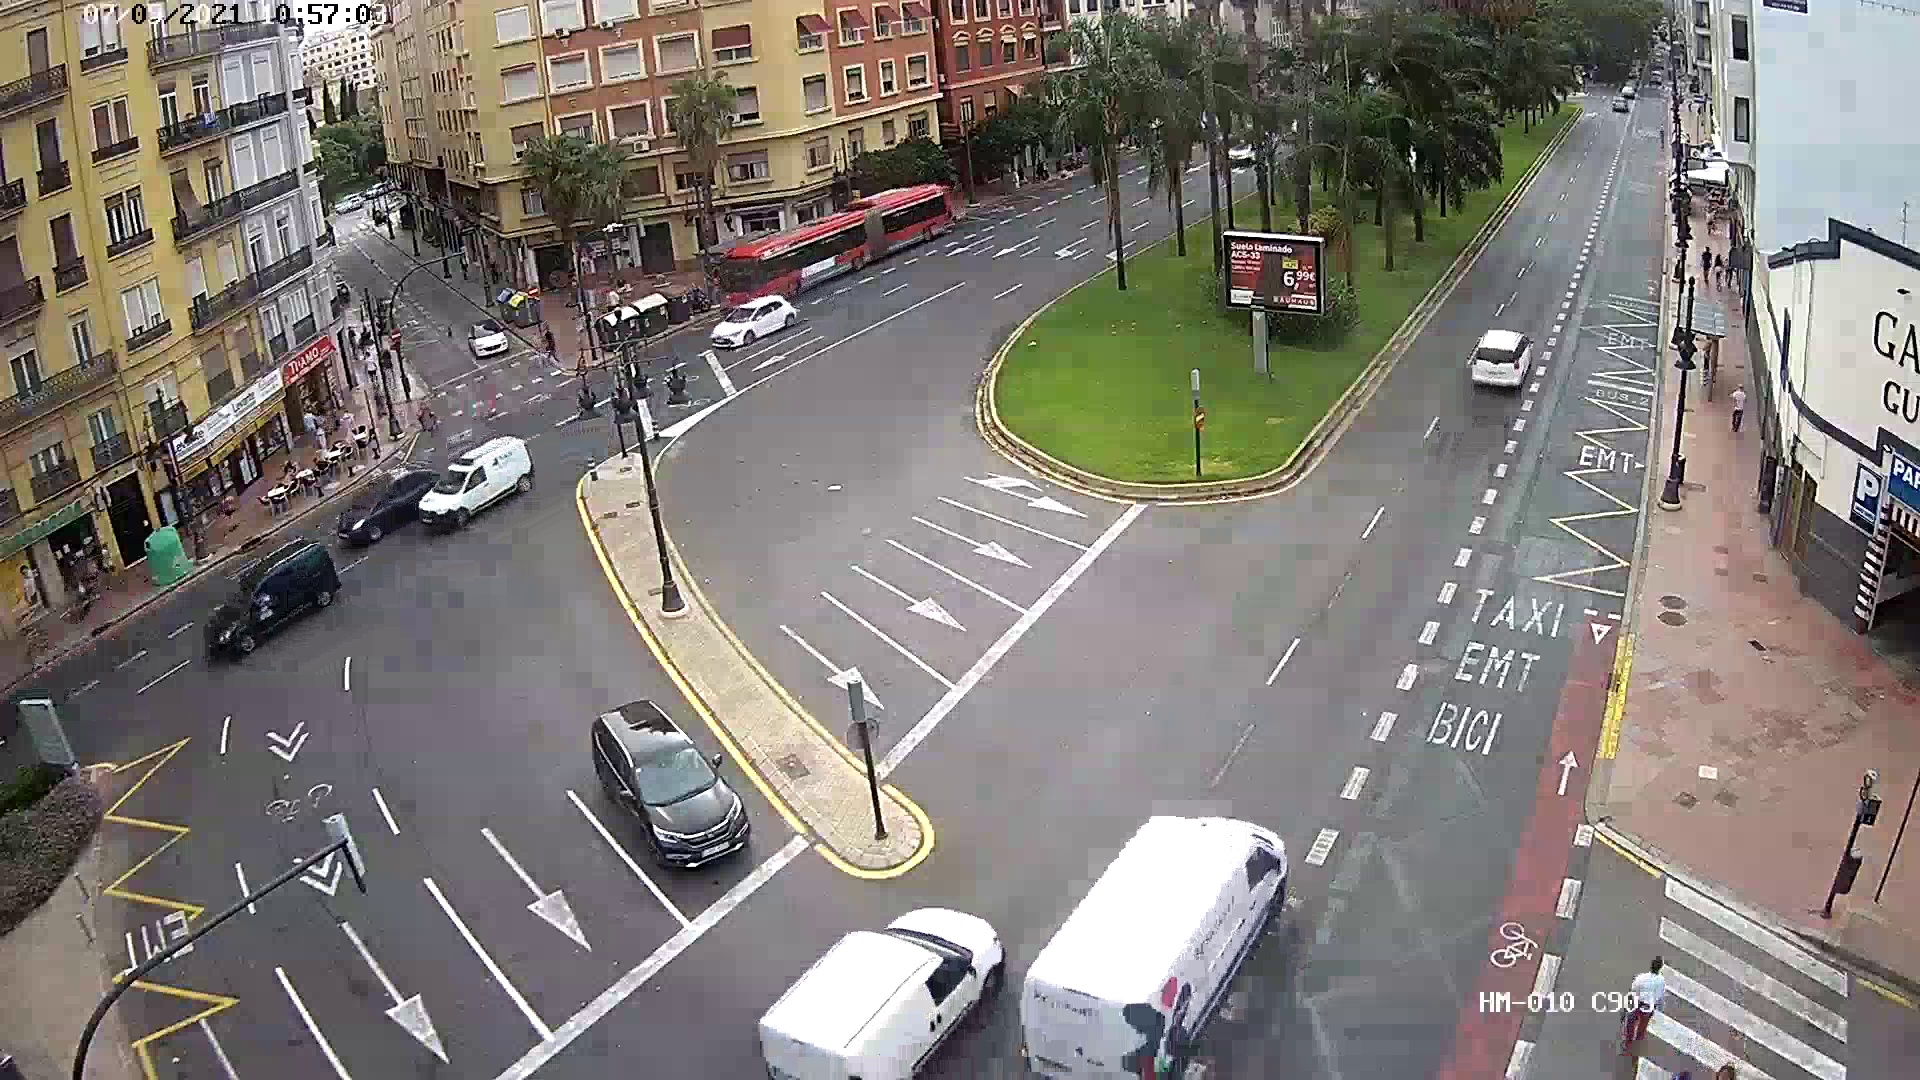Cars: (572, 698, 760, 876), (189, 551, 320, 665), (415, 444, 547, 514), (1462, 318, 1545, 400), (700, 313, 803, 349), (460, 323, 513, 367)
